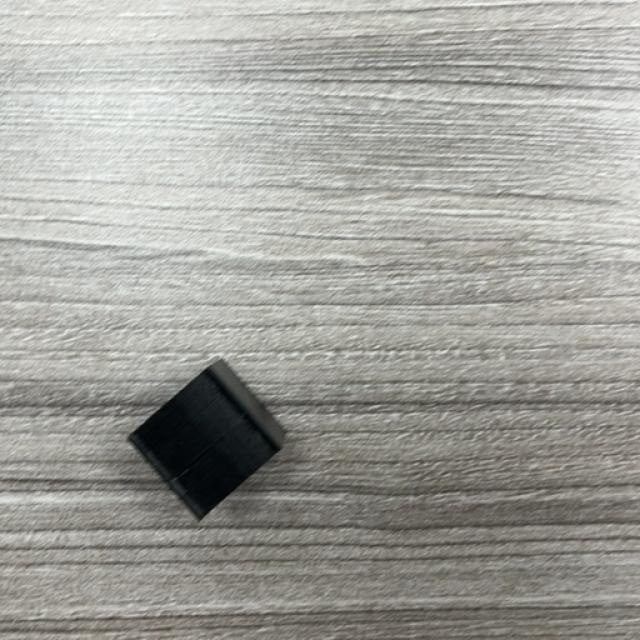Negro: (128, 360, 288, 521)
